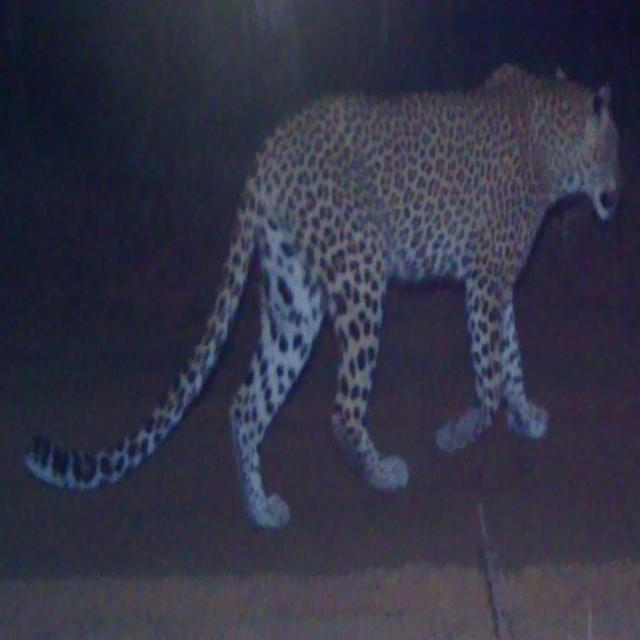Leopard: (43, 80, 630, 538)
